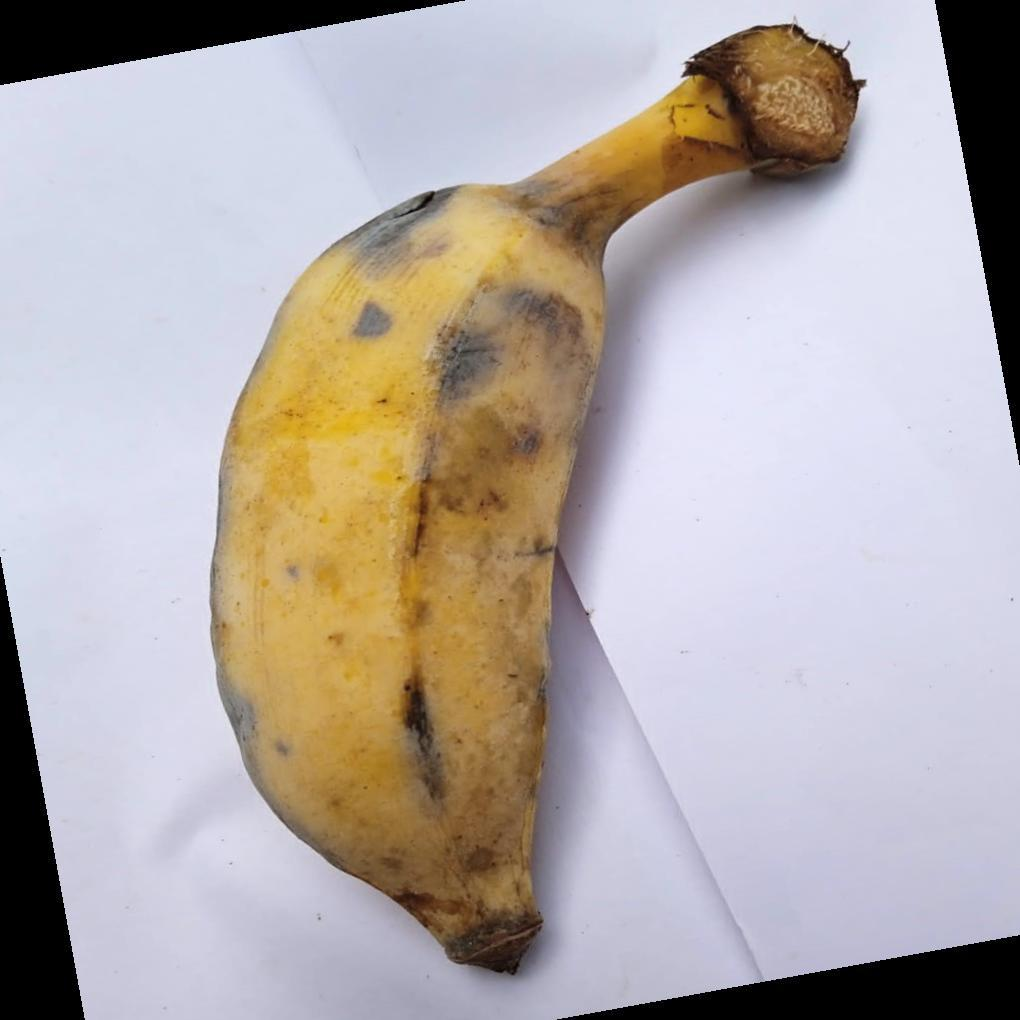Banana Ripe: (209, 44, 763, 1020)
